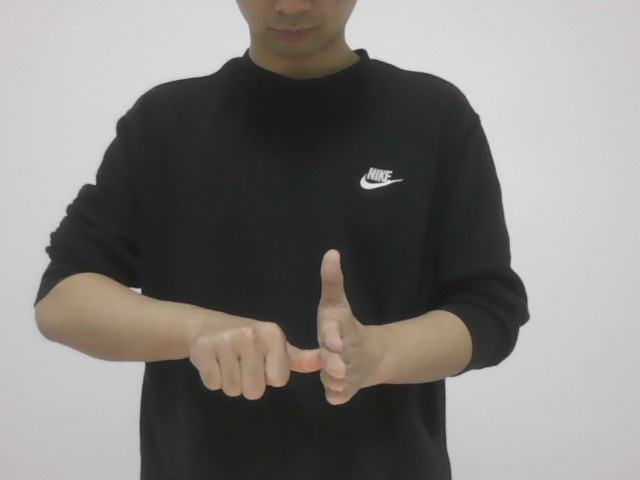time: (183, 244, 379, 409)
